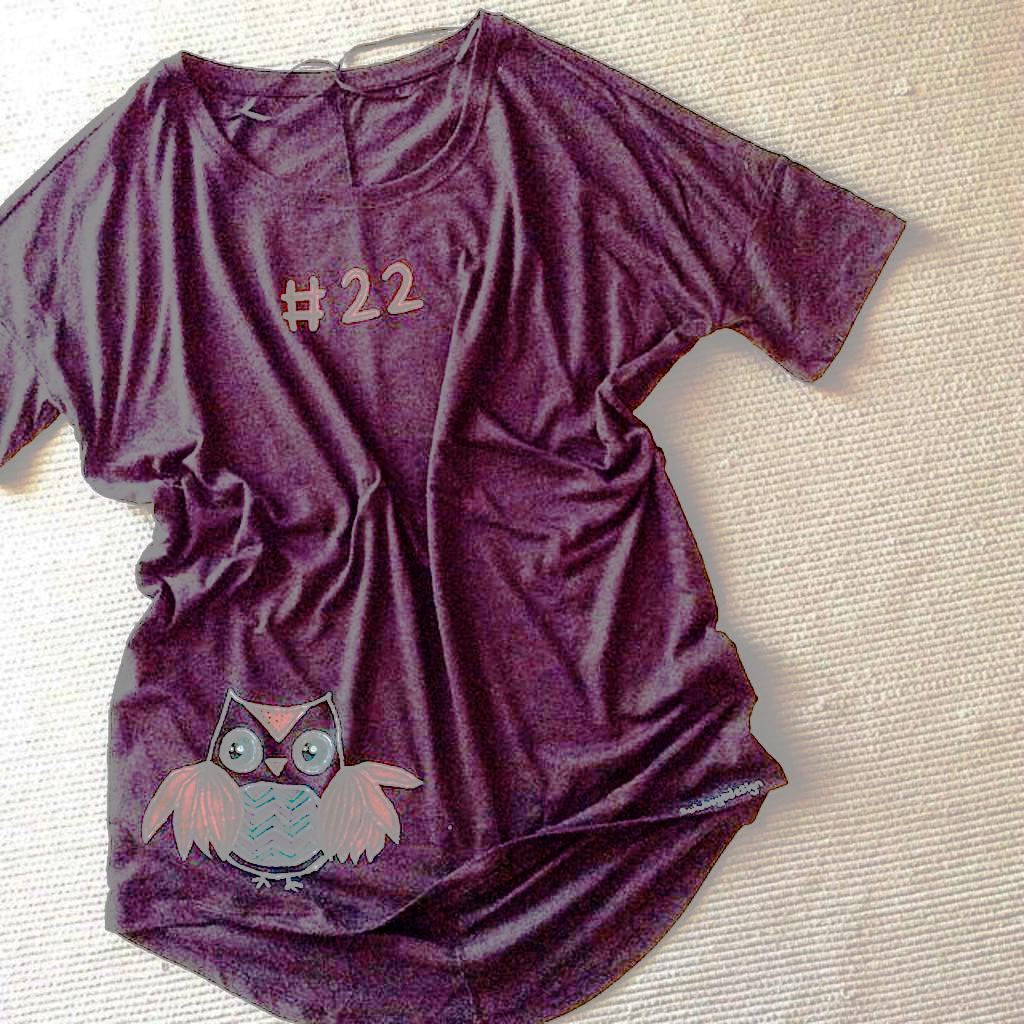Owl: (142, 690, 424, 890)
